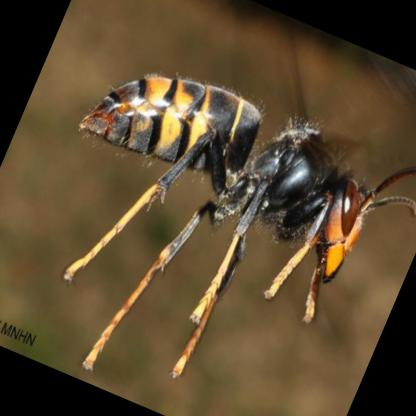asian: (2, 23, 415, 415)
